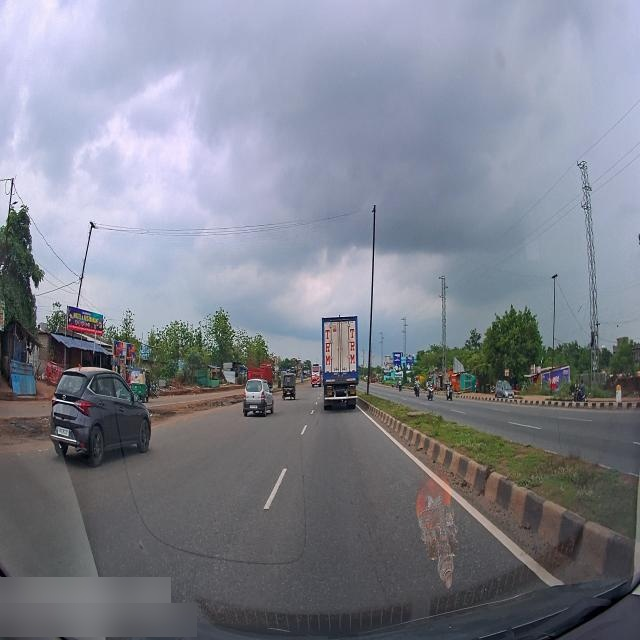pothole: (11, 414, 48, 444), (202, 393, 239, 412), (156, 406, 176, 421)
